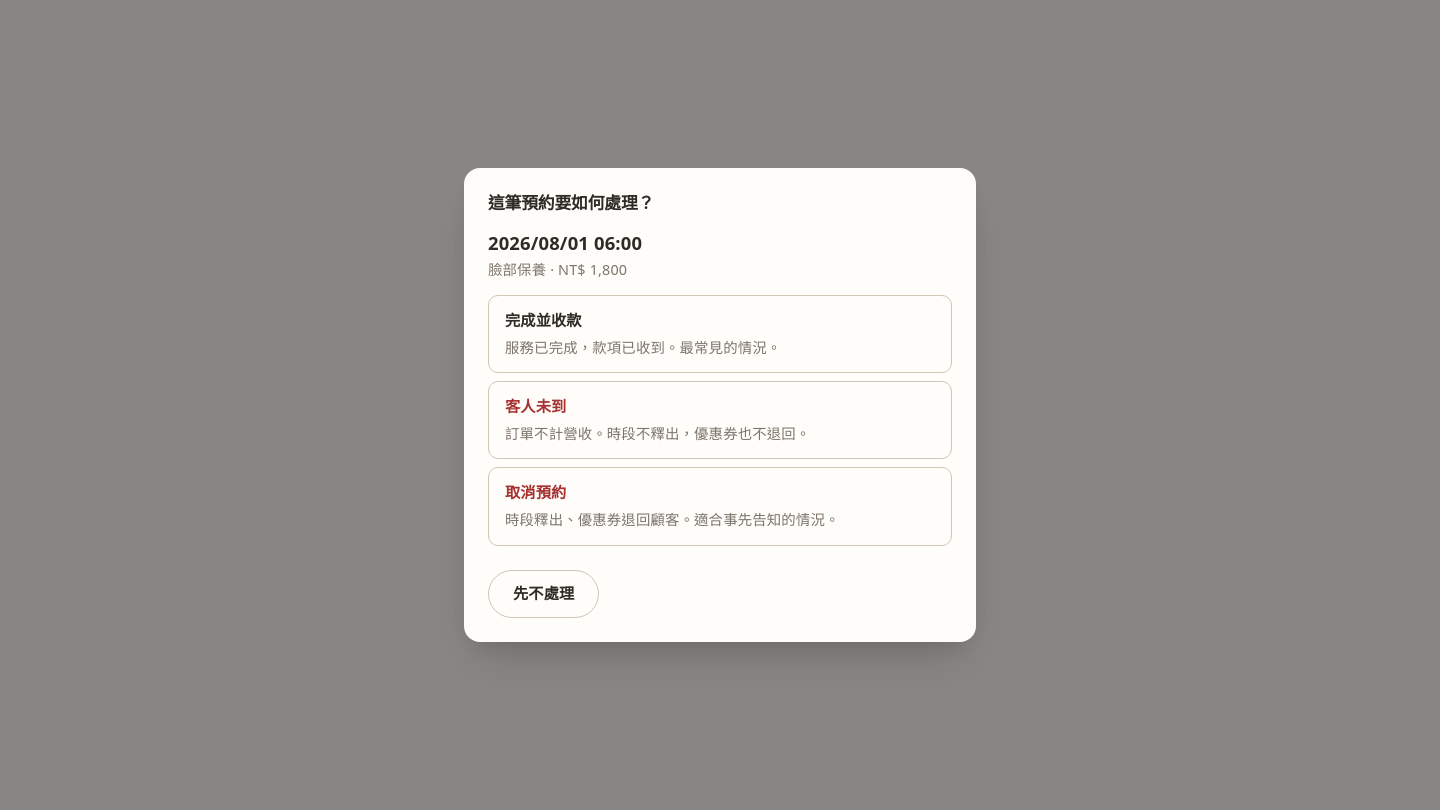
Scenario: 兩段式確認 › 選了處理方式不會立刻執行，要再確認一次
This screenshot has width=1440, height=810.
Click the button "完成並收款 服務已完成，款項已收到。最常見的情況。": (543, 320) [488,295,952,373]
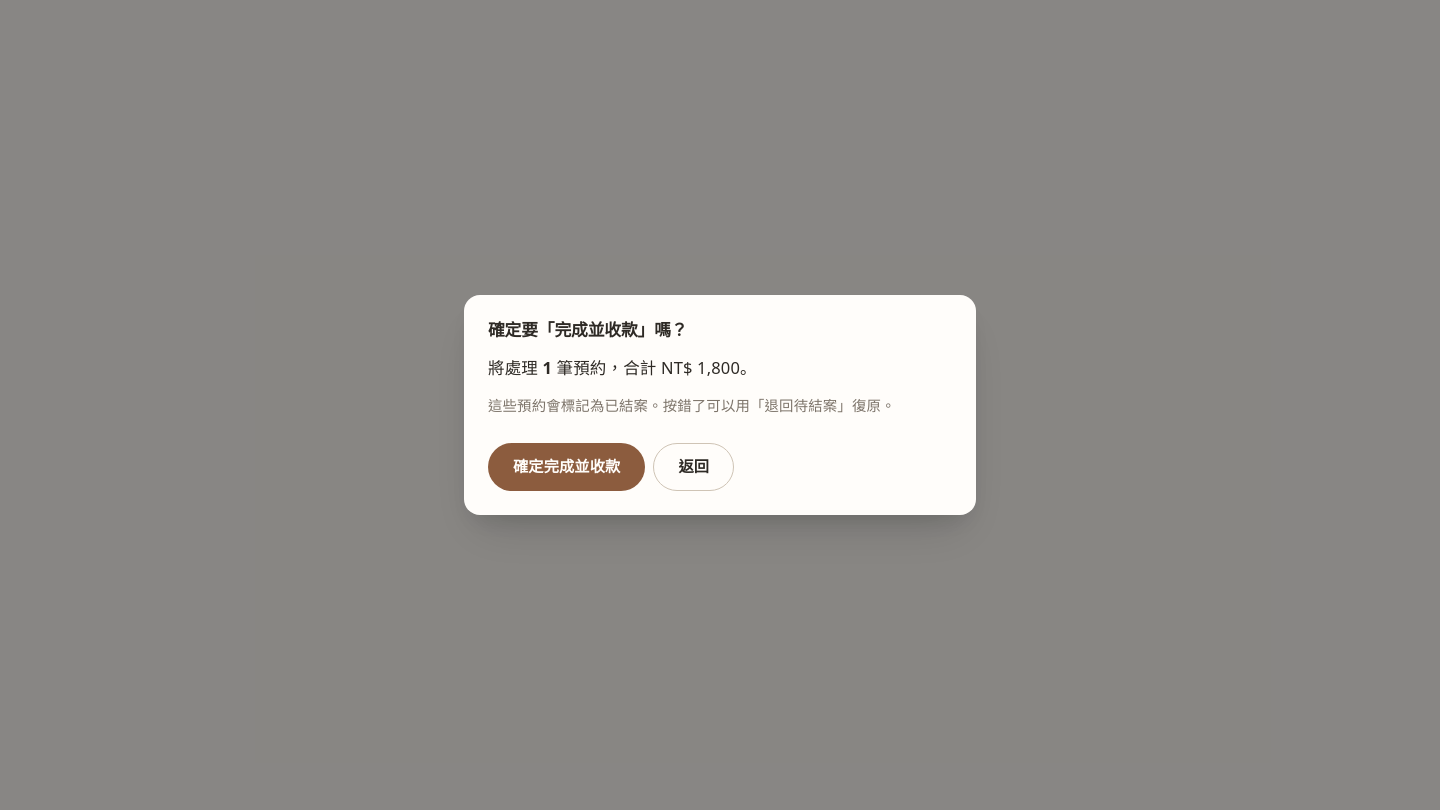
Check: the heading "確定要「完成並收款」嗎？" is shown, box [488,318,687,342]
